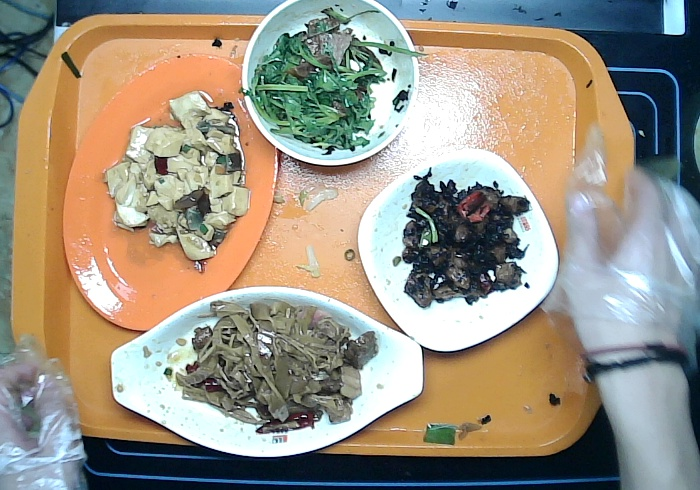NLDX-Bai_Se_Xiao_Fang_Die: (356, 148, 560, 353)
NLDX-Fan_Wan: (240, 1, 422, 167)
NLDX-Ju_Se_Pan: (62, 53, 278, 331)
NLDX-Yu_Pan: (109, 285, 424, 459)
